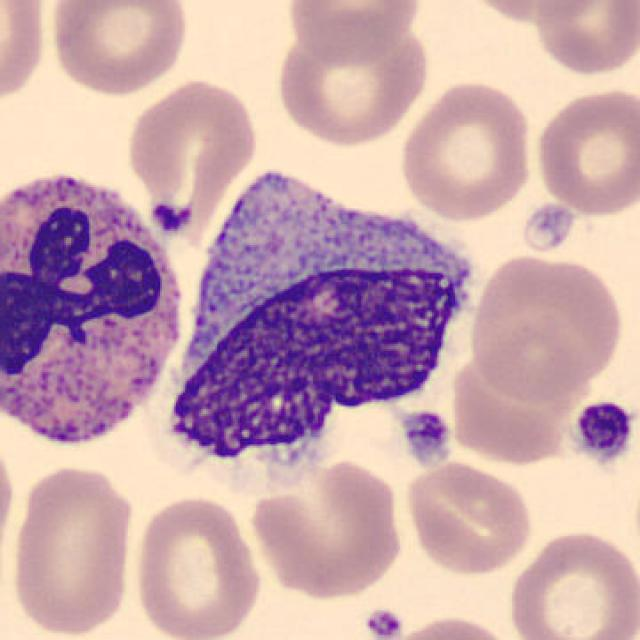Eosinophil: (0, 149, 194, 457)
Monocyte: (153, 152, 492, 500)
Platelets: (570, 396, 634, 466), (398, 407, 455, 469), (519, 201, 578, 254), (148, 199, 192, 236), (360, 604, 405, 640)
RBC: (466, 250, 628, 400), (5, 460, 140, 640), (245, 455, 407, 601), (272, 14, 432, 148), (397, 76, 535, 224), (123, 74, 261, 220), (130, 492, 265, 640), (402, 458, 537, 578), (505, 525, 638, 640), (46, 0, 192, 99), (532, 82, 638, 218), (283, 0, 425, 65), (530, 0, 640, 79), (0, 0, 50, 109), (455, 0, 609, 26), (382, 612, 523, 640), (0, 427, 18, 571)
